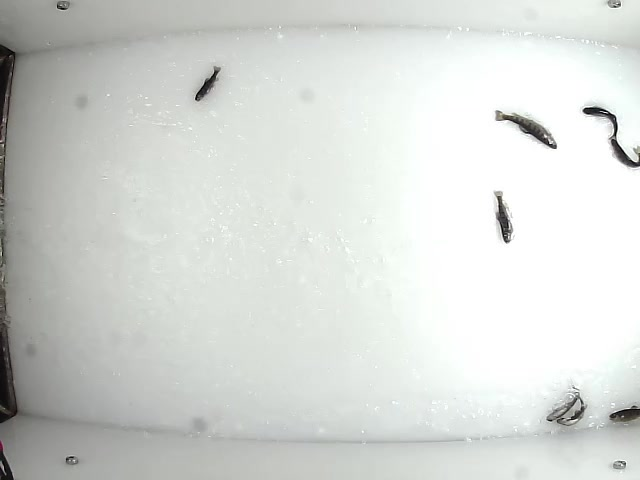fish: (494, 108, 559, 148), (581, 103, 621, 142), (543, 388, 581, 423), (554, 389, 588, 428), (491, 190, 515, 245), (193, 63, 221, 103), (610, 136, 640, 170)
